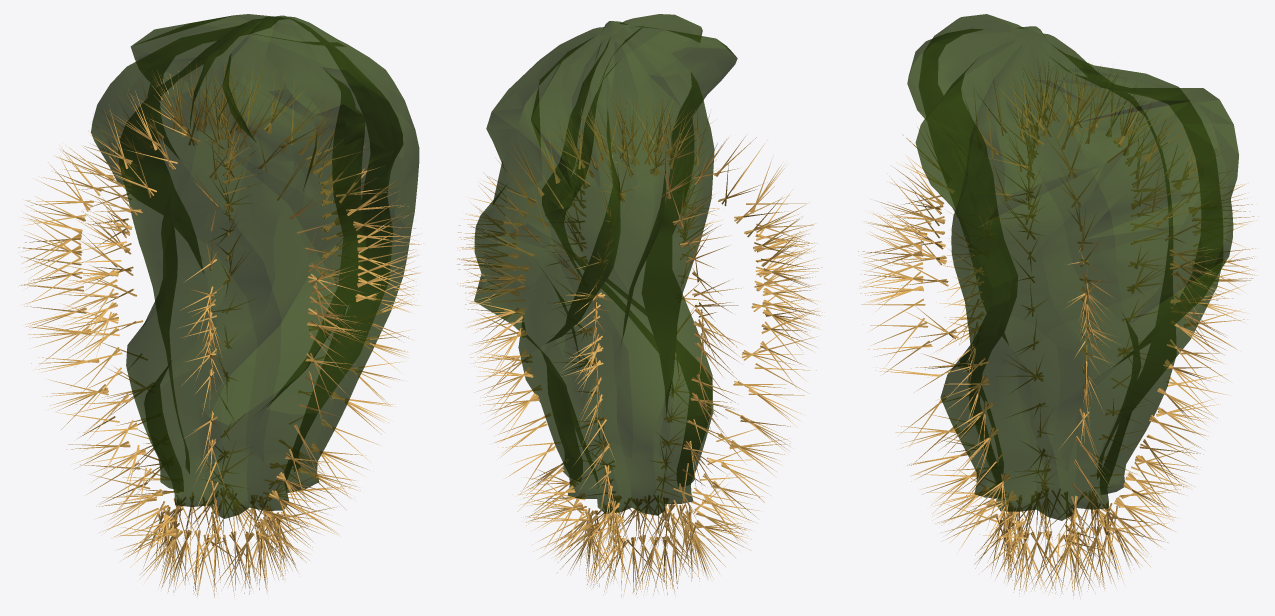
The model's file is A cactus.glb.
3 renders of one model, left to right at view 1: azimuth 30°, elevation 25°; view 2: azimuth 150°, elevation 25°; view 3: azimuth 270°, elevation 25°, orthographic. The views are drawn at different scales.
Parts seen in each view (by area): view 1: Cylinder_001; view 2: Cylinder_001; view 3: Cylinder_001.
Boxes of the visible parts, bbox=[...] form: Cylinder_001: bbox=[91, 14, 419, 518]; Cylinder_001: bbox=[474, 14, 737, 515]; Cylinder_001: bbox=[907, 14, 1238, 520].
Size of the model in its own units: 1.15 by 1.75 by 1.15.
